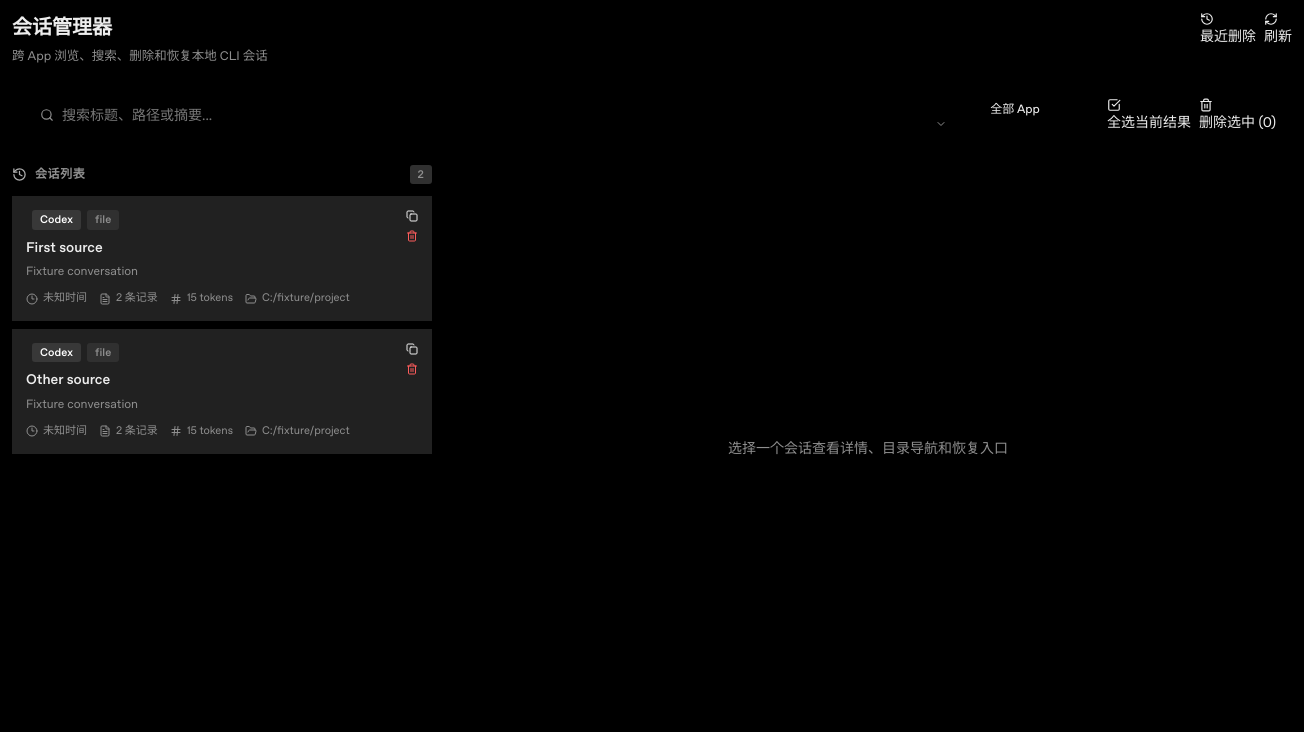
Test: session page interactions › preserves readable details after a failed refresh and retries inline
The width and height of the screenshot is (1304, 732).
Expected: the text "First source" is shown, [26,238,103,254]
Click the button "First source" at (57, 220), box [12,196,432,321]
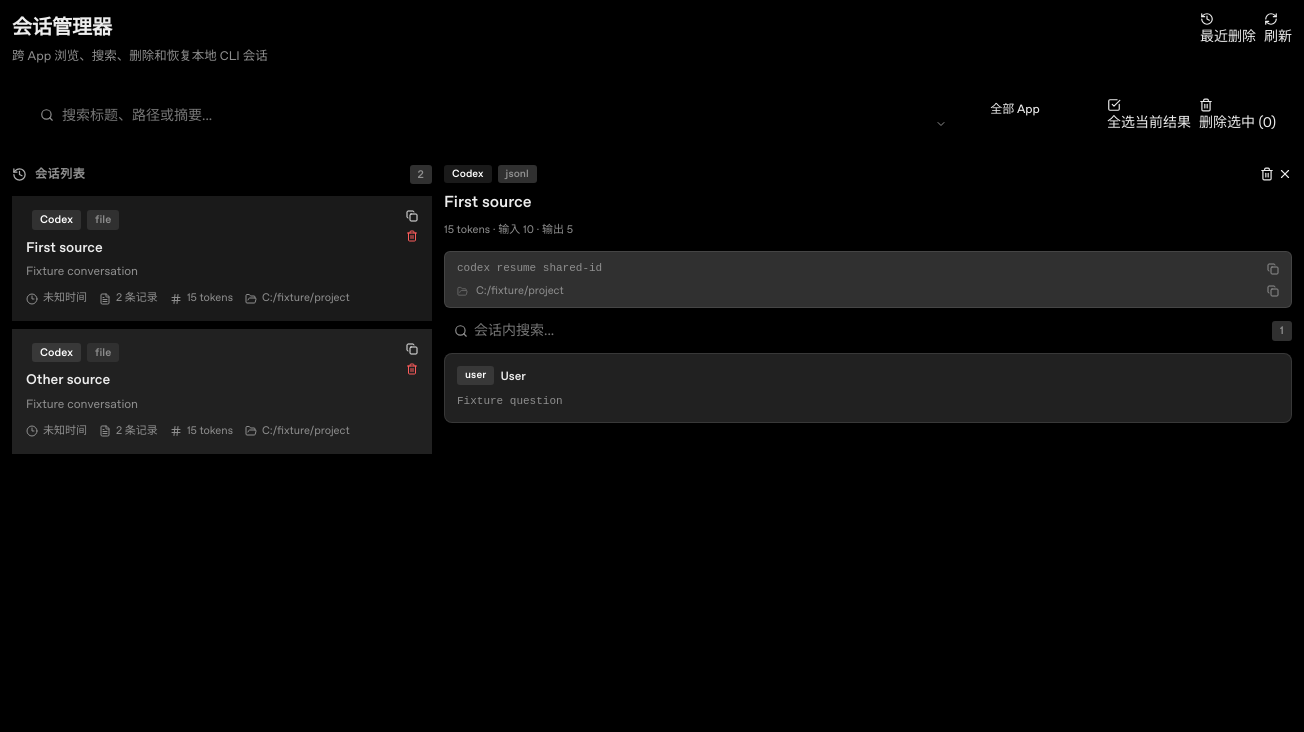
Result: the text "Fixture question" is shown at [457,395,563,407]
Click the button "刷新" at (1278, 30), box [1264,12,1292,47]
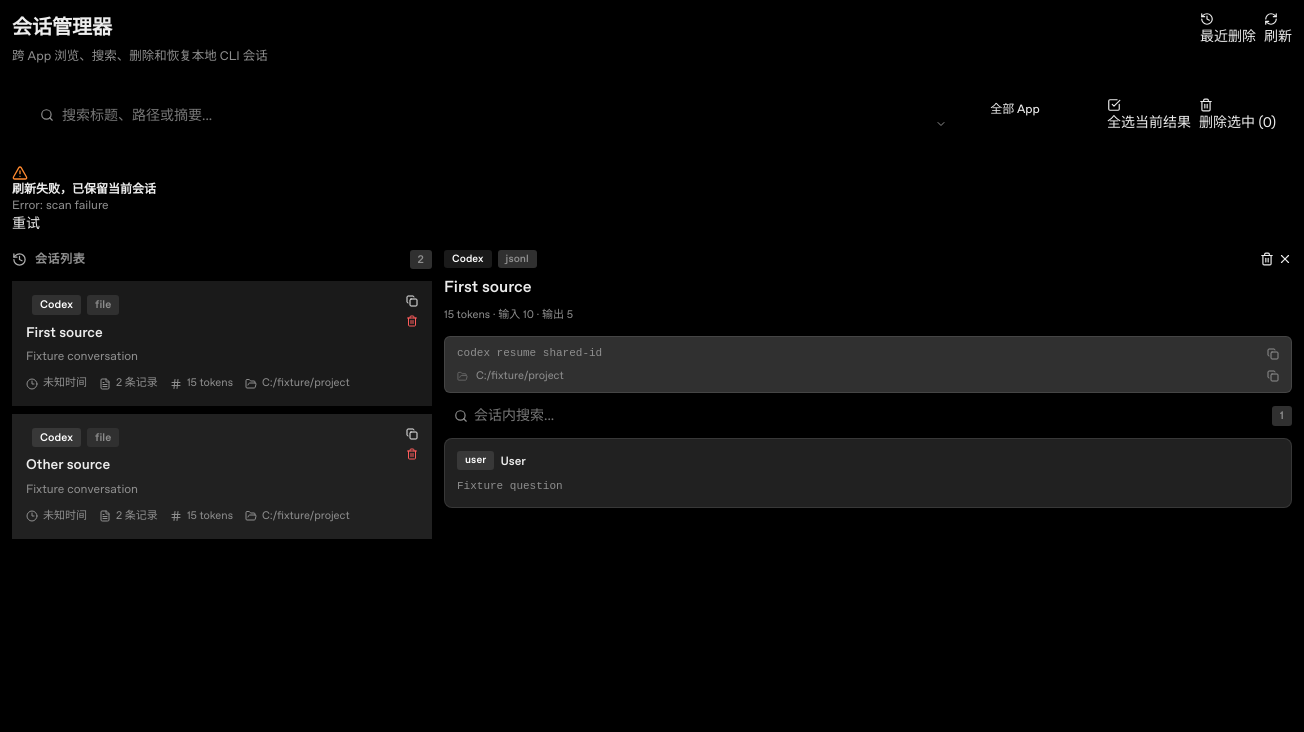
Result: the text "Fixture question" is shown at [457,480,563,492]
Result: the message shows "已保留当前会话" at [12,182,156,196]
Click the button "重试" at (26, 223), box [12,213,40,234]
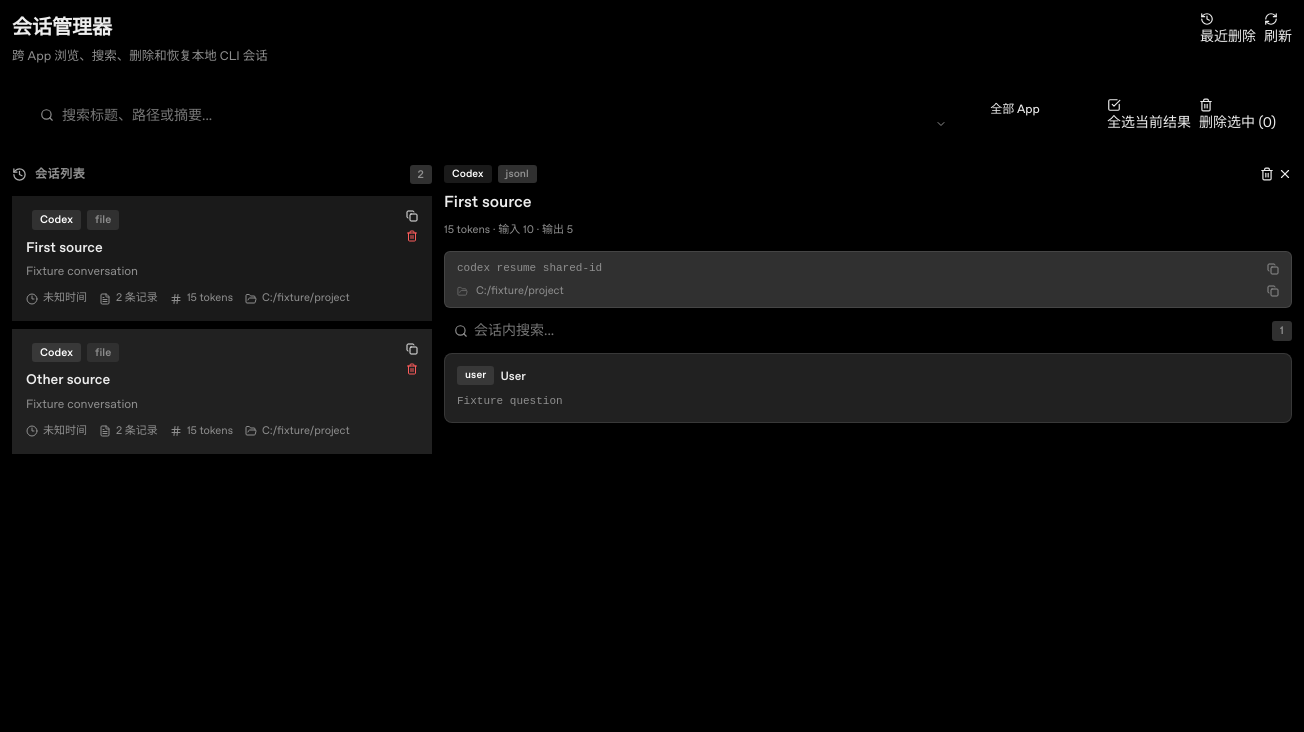
Result: the message "刷新失败，已保留当前会话 Error: scan failure 重试" is gone
